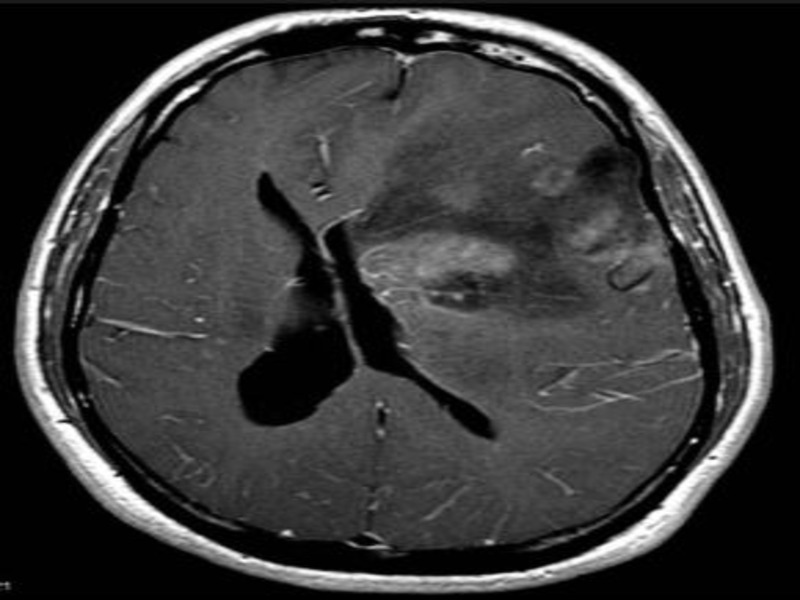tumor: (351, 219, 529, 329)
